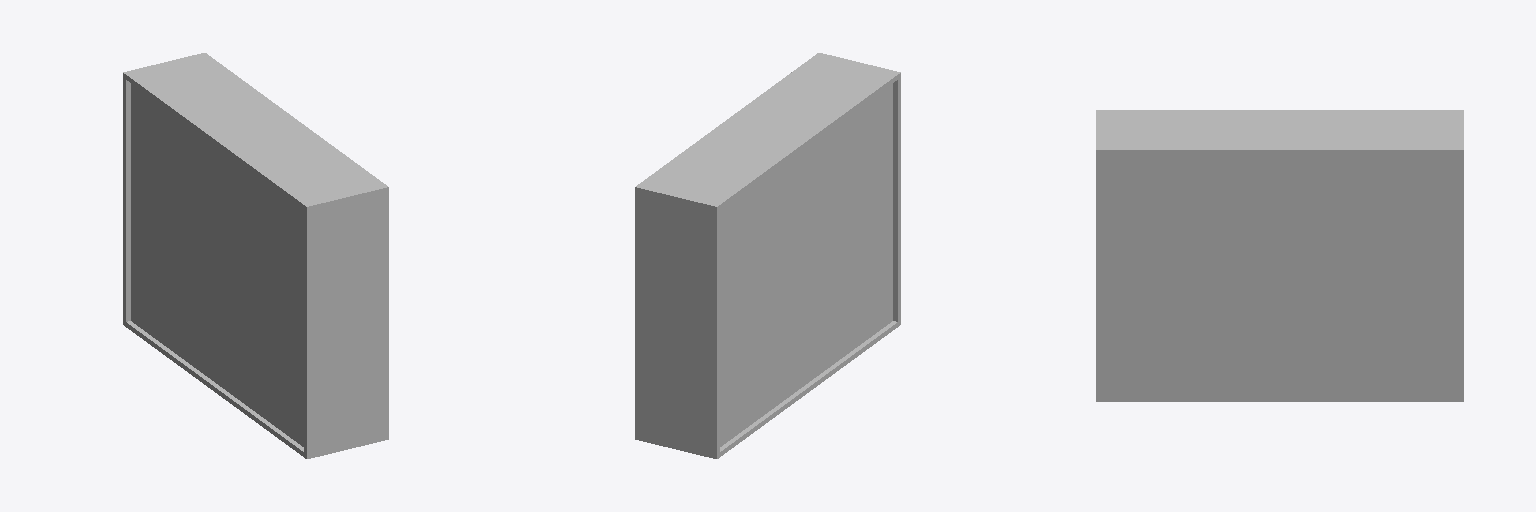
Rendered from Desk Screen 2.obj.
3 renders of one model, left to right at view 1: azimuth 30°, elevation 25°; view 2: azimuth 150°, elevation 25°; view 3: azimuth 270°, elevation 25°, orthographic.
Parts seen in each view (by area): view 1: ObjObject.002; view 2: ObjObject.002; view 3: ObjObject.002.
Boxes of the visible parts, x1=… form: ObjObject.002: x1=123, y1=53, x2=388, y2=458; ObjObject.002: x1=635, y1=53, x2=900, y2=458; ObjObject.002: x1=1096, y1=110, x2=1463, y2=401.
Size of the model in its own units: 1.7 by 5 by 6.6.